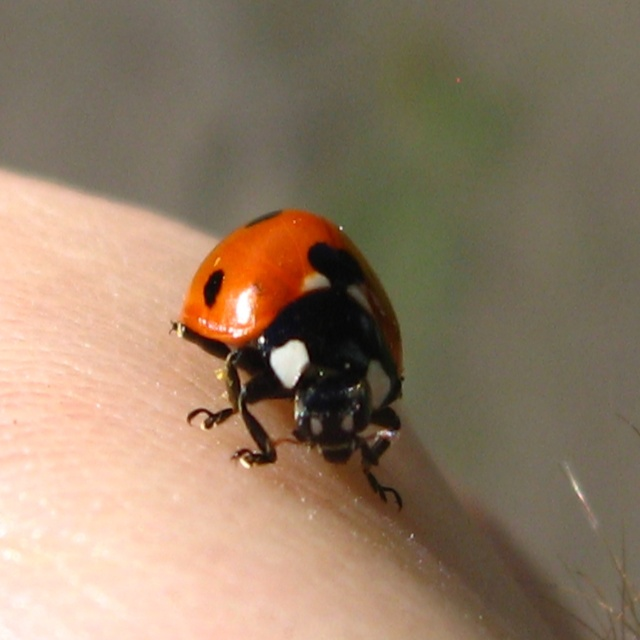Ladybug: (169, 210, 408, 509)
